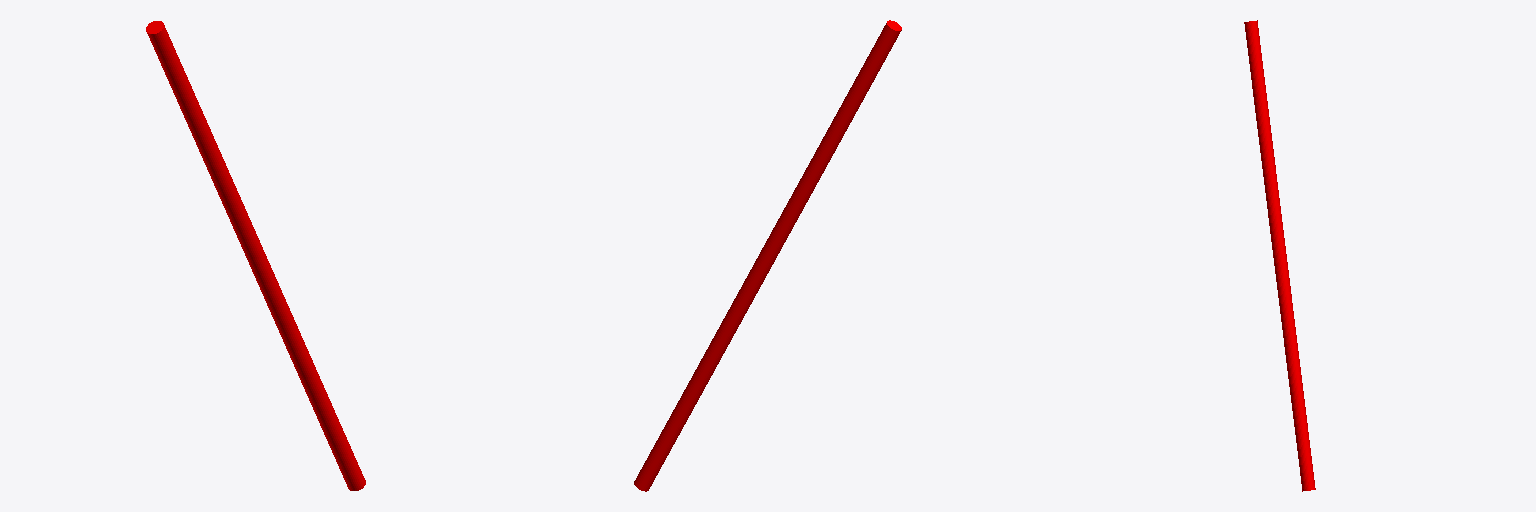
robot.urdf — tree_50.urdf:
<?xml version='1.0' encoding='utf-8'?>
<robot name="tree_50.urdf">
  <link name="branch_0">
    <inertial>
      <origin xyz="0.0 0.0 0.0" rpy="0.0 -0.0 0.0" />
      <mass value="1.0" />
      <inertia ixx="1.0" ixy="0.0" ixz="0.0" iyy="1.0" iyz="0.0" izz="1.0" />
    </inertial>
    <visual name="branch_0_visual">
      <geometry>
        <cylinder radius="0.03997038182580237" length="2.8248394172285303" />
      </geometry>
      <material name="semantic_material" />
      <origin xyz="-0.5915046928551296 -0.17384332774902078 1.2707596661090215" rpy="1.3314654456003502e-17 0.4517053995777779 -2.8557413888304293" />
    </visual>
    <collision name="branch_0_collision">
      <geometry>
        <cylinder radius="0.03997038182580237" length="2.8248394172285303" />
      </geometry>
      <origin xyz="-0.5915046928551296 -0.17384332774902078 1.2707596661090215" rpy="1.3314654456003502e-17 0.4517053995777779 -2.8557413888304293" />
    </collision>
  </link>
  <material name="semantic_material">
    <color rgba="1. 0. 0. 1." />
  </material>
</robot>

--- Facts derived from the render (not from the file) ---
Views: 3 orthographic renders of the robot side by side, from view 1: azimuth 30°, elevation 25°; view 2: azimuth 150°, elevation 25°; view 3: azimuth 270°, elevation 25°.
Model tree_50.urdf with 1 links and 0 joints (none), rooted at branch_0, posed all joints at 0.
Visible links, largest first — view 1: branch_0; view 2: branch_0; view 3: branch_0.
Boxes of the visible links, x1,y1,x2,y2 form: branch_0: [146, 21, 365, 490]; branch_0: [634, 20, 901, 491]; branch_0: [1244, 20, 1315, 491].
Bounding box of the posed robot: 1.26 × 0.4269 × 2.58 m (x, y, z).
Geometry: primitives only (box / cylinder / sphere), no mesh files.
